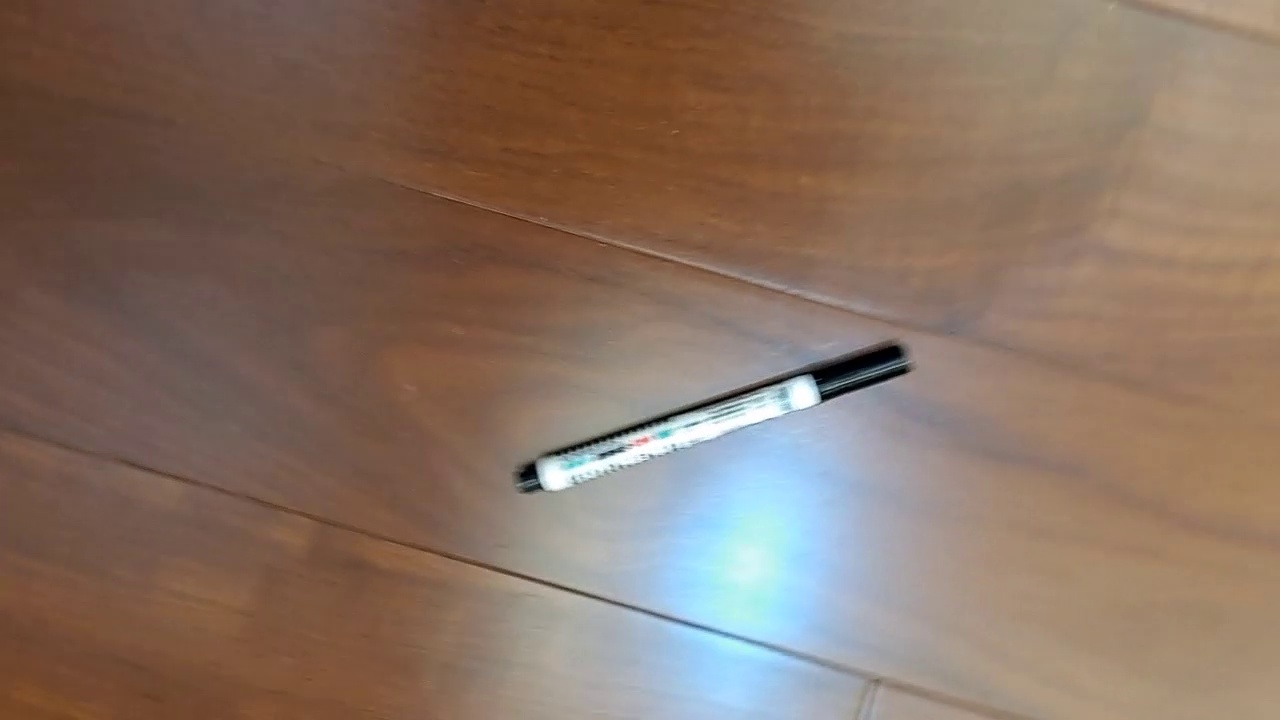pen: (512, 335, 919, 496)
